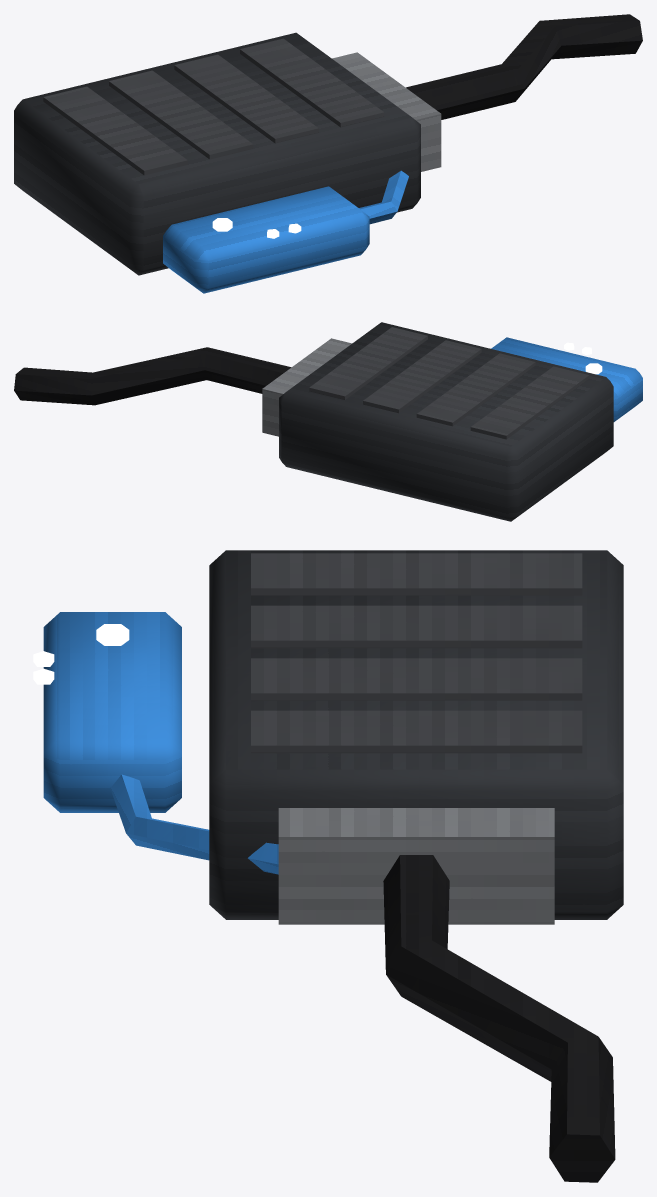
File: ecu_n2.glb
3 renders of one model, top to bottom at view 1: azimuth 30°, elevation 25°; view 2: azimuth 150°, elevation 25°; view 3: azimuth 270°, elevation 25°, orthographic. The views are drawn at different scales.
Parts seen in each view (by area): view 1: ecu_n2; view 2: ecu_n2; view 3: ecu_n2.
Boxes of the visible parts, x1,y1,x2,y2 form: ecu_n2: [14, 14, 642, 293]; ecu_n2: [14, 322, 642, 521]; ecu_n2: [33, 550, 623, 1182].
Bounding box in the file's own units: 0.4217 × 0.0635 × 0.2138.
2 materials, 2 textured.
